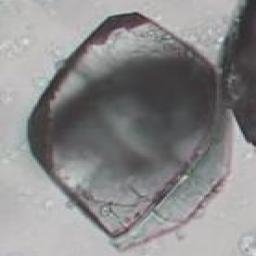crystals: (24, 9, 231, 250)
